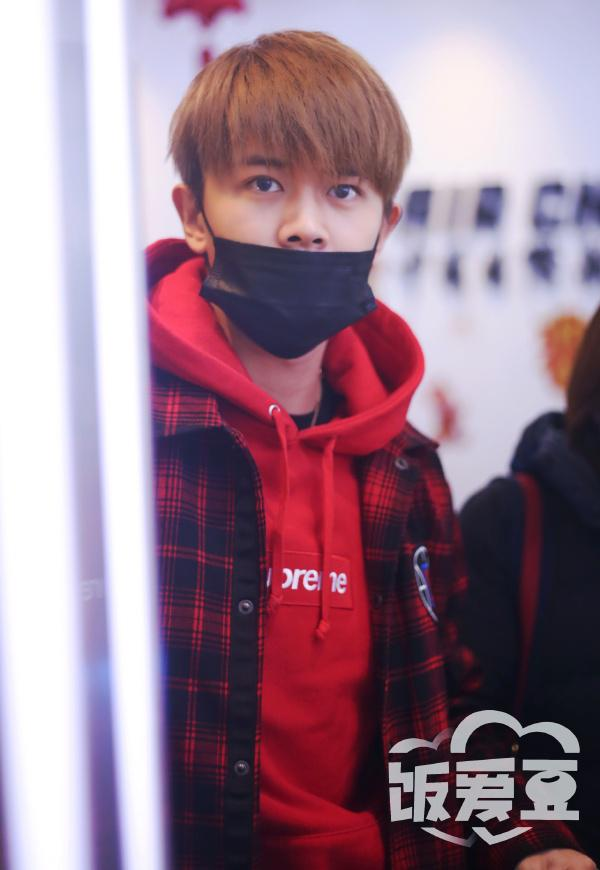WRONG: (201, 144, 379, 356)
